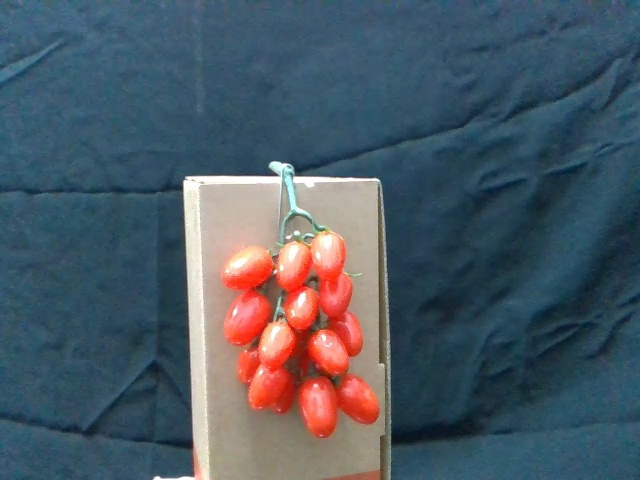tomato: (296, 374, 344, 440), (221, 291, 270, 346), (225, 246, 274, 293), (339, 373, 380, 426), (258, 322, 300, 369), (275, 239, 312, 290), (311, 328, 352, 374), (312, 230, 347, 279), (249, 367, 287, 411), (332, 307, 366, 355), (284, 288, 320, 333), (321, 274, 354, 317), (234, 346, 264, 383)
